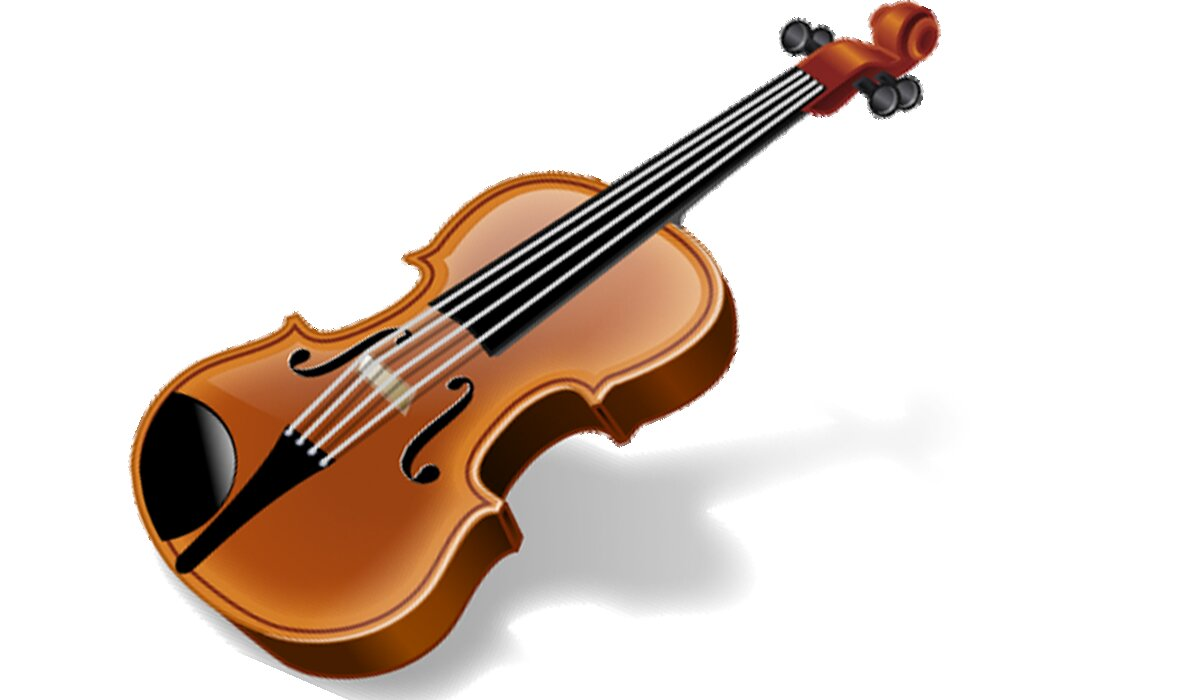Fiddle: (128, 1, 979, 680)
